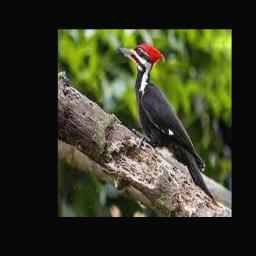Woodpecker: (116, 43, 216, 202)
